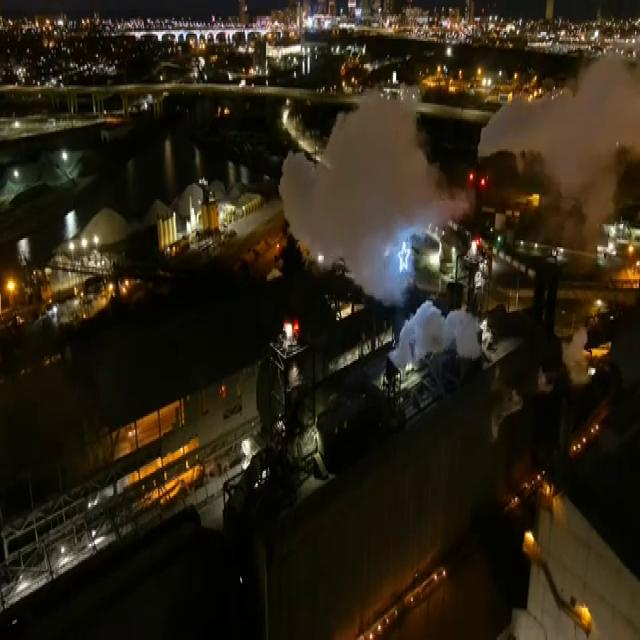smoke: (281, 98, 454, 313), (487, 60, 640, 226), (390, 300, 500, 368)
